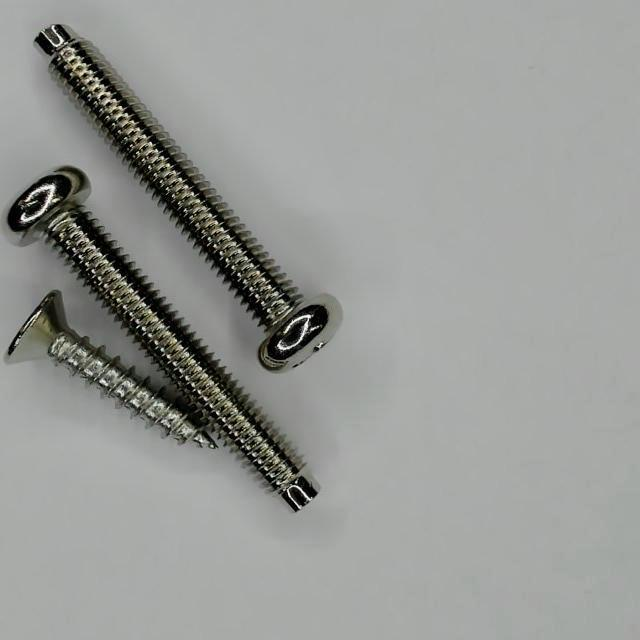Screw: (35, 24, 342, 370), (7, 166, 312, 510), (5, 291, 216, 448)
